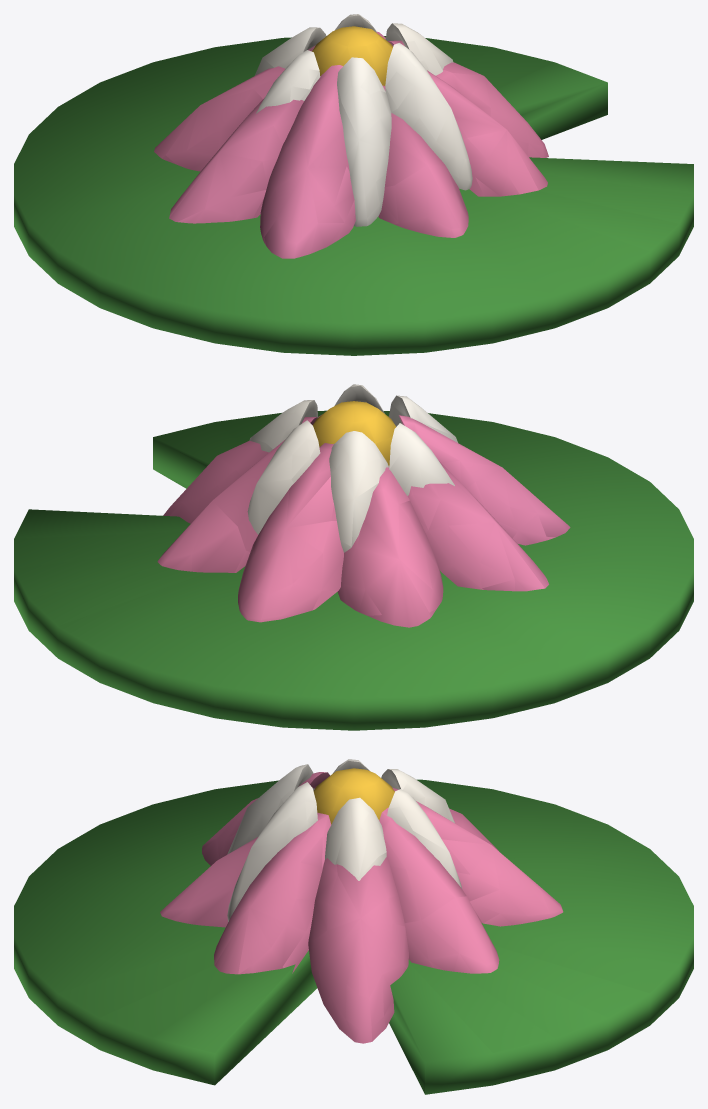
File: glade_lily_flower_lod1.glb
3 renders of one model, top to bottom at view 1: azimuth 30°, elevation 25°; view 2: azimuth 150°, elevation 25°; view 3: azimuth 270°, elevation 25°, orthographic.
Visible parts, largest first — view 1: glade_lily_flower.001; view 2: glade_lily_flower.001; view 3: glade_lily_flower.001.
Part boxes in pixels (x1,y1,x2,y2): glade_lily_flower.001: (14, 14, 693, 355); glade_lily_flower.001: (14, 384, 693, 730); glade_lily_flower.001: (14, 759, 693, 1094).
Bounding box in the file's own units: 7.31 × 2.2 × 7.35.
